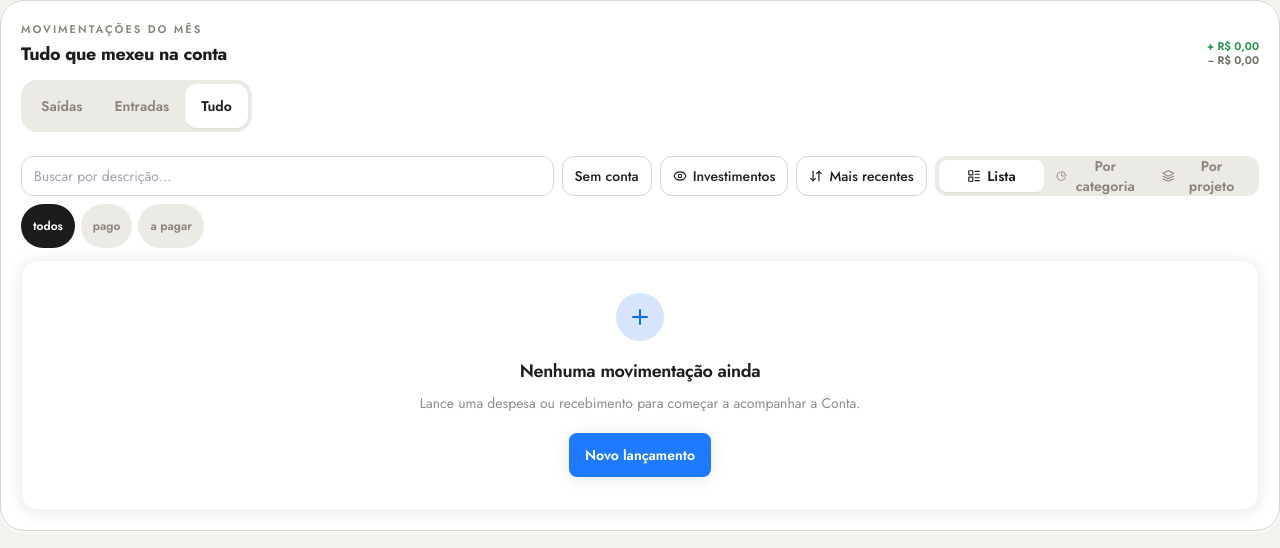
MovimentacoesSection — CTA do vazio genuíno (#218) › 2b) raw vazio + aba Entradas → SEM CTA
The image size is (1280, 548).
Click the button "Entradas" at (142,106), box [98,84,185,128]
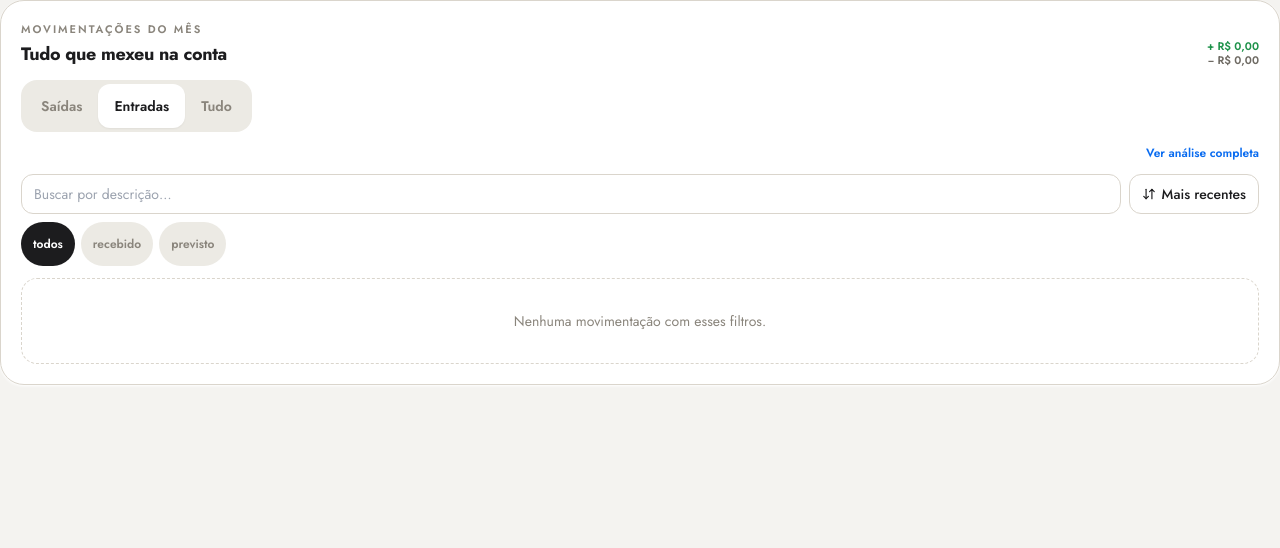
Check: the button "Novo lançamento" is gone
